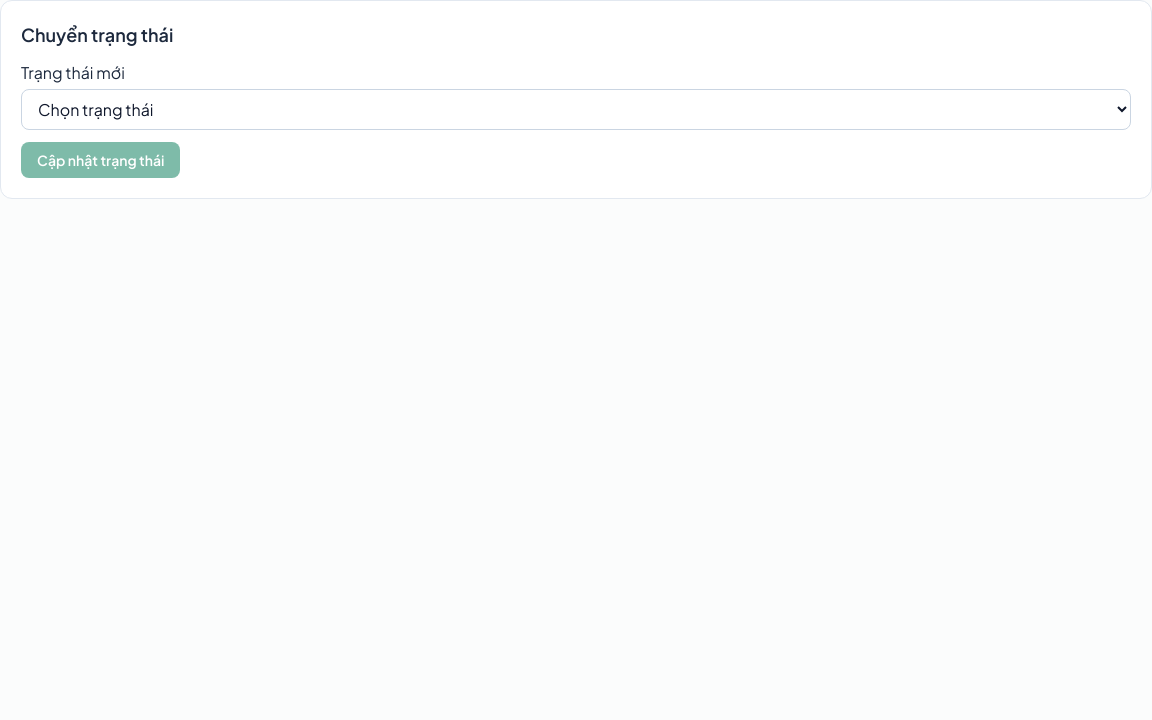
Scenario: confirms event approval before requesting it
Select "Duyệt kế hoạch" in the dropdown labelled "Trạng thái mới" at (576, 110), box [21,89,1131,130]
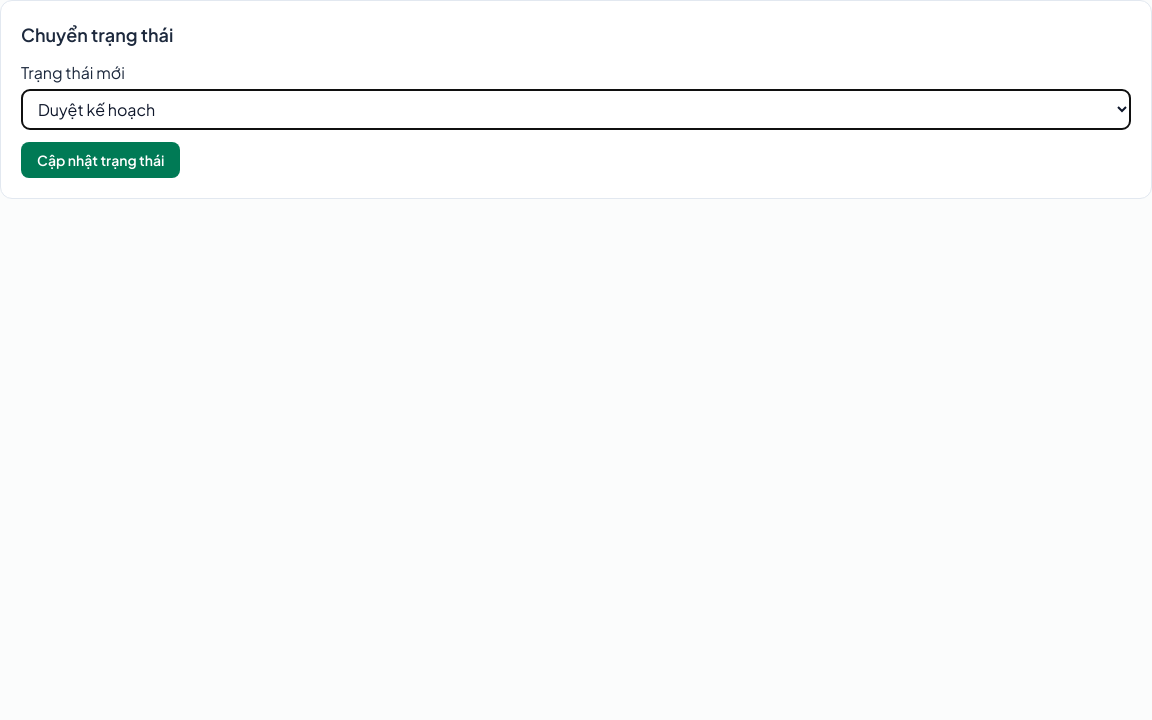
Click the button "Cập nhật trạng thái" at (101, 160), box [21,142,180,178]
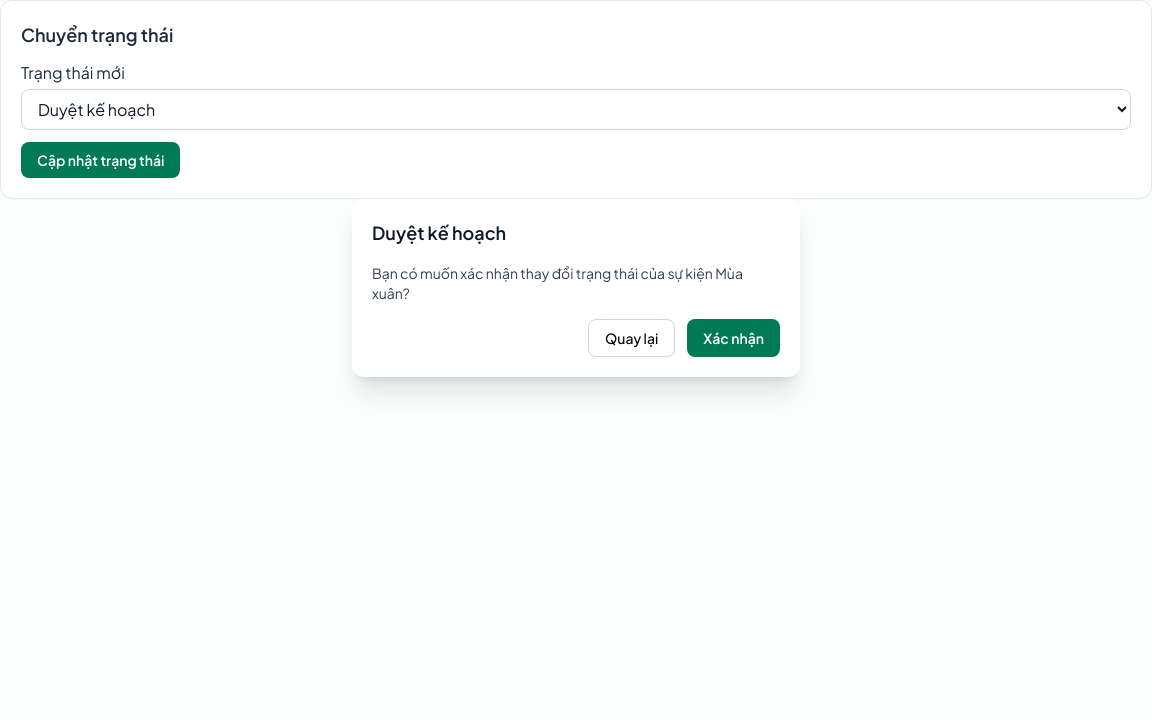
Click the button "Xác nhận" at (734, 338), box [687,319,780,357]
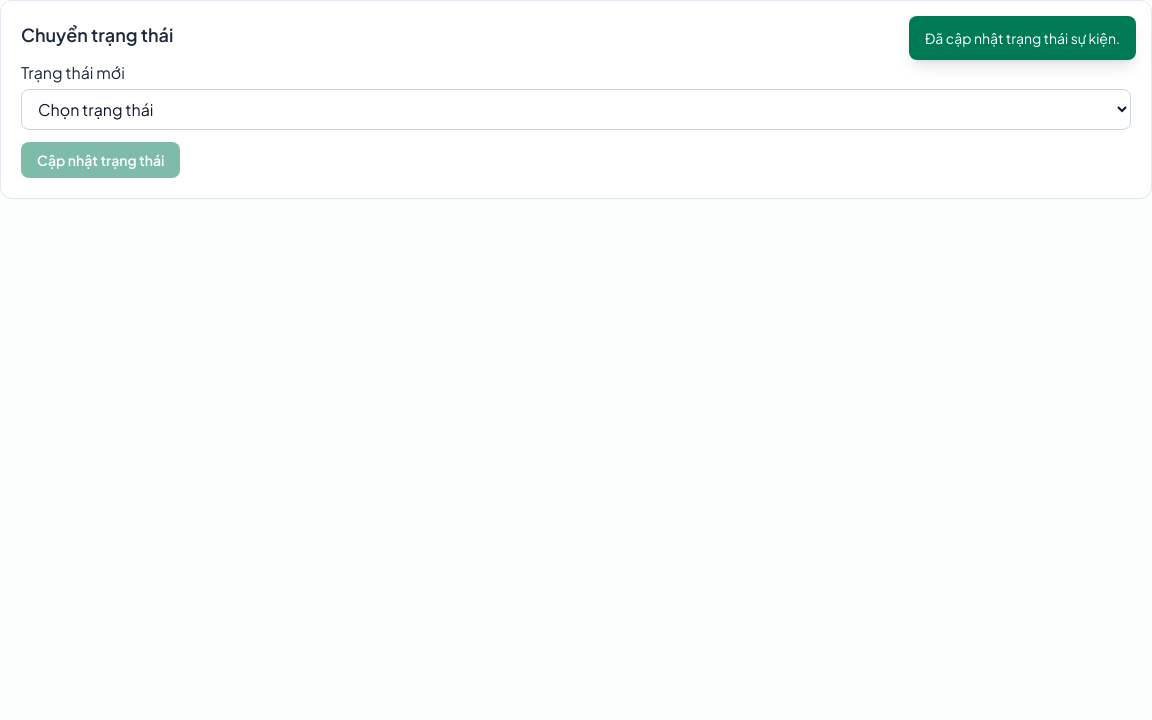
Expected: the text "Đã cập nhật trạng thái sự kiện." is shown, [909,16,1136,60]
